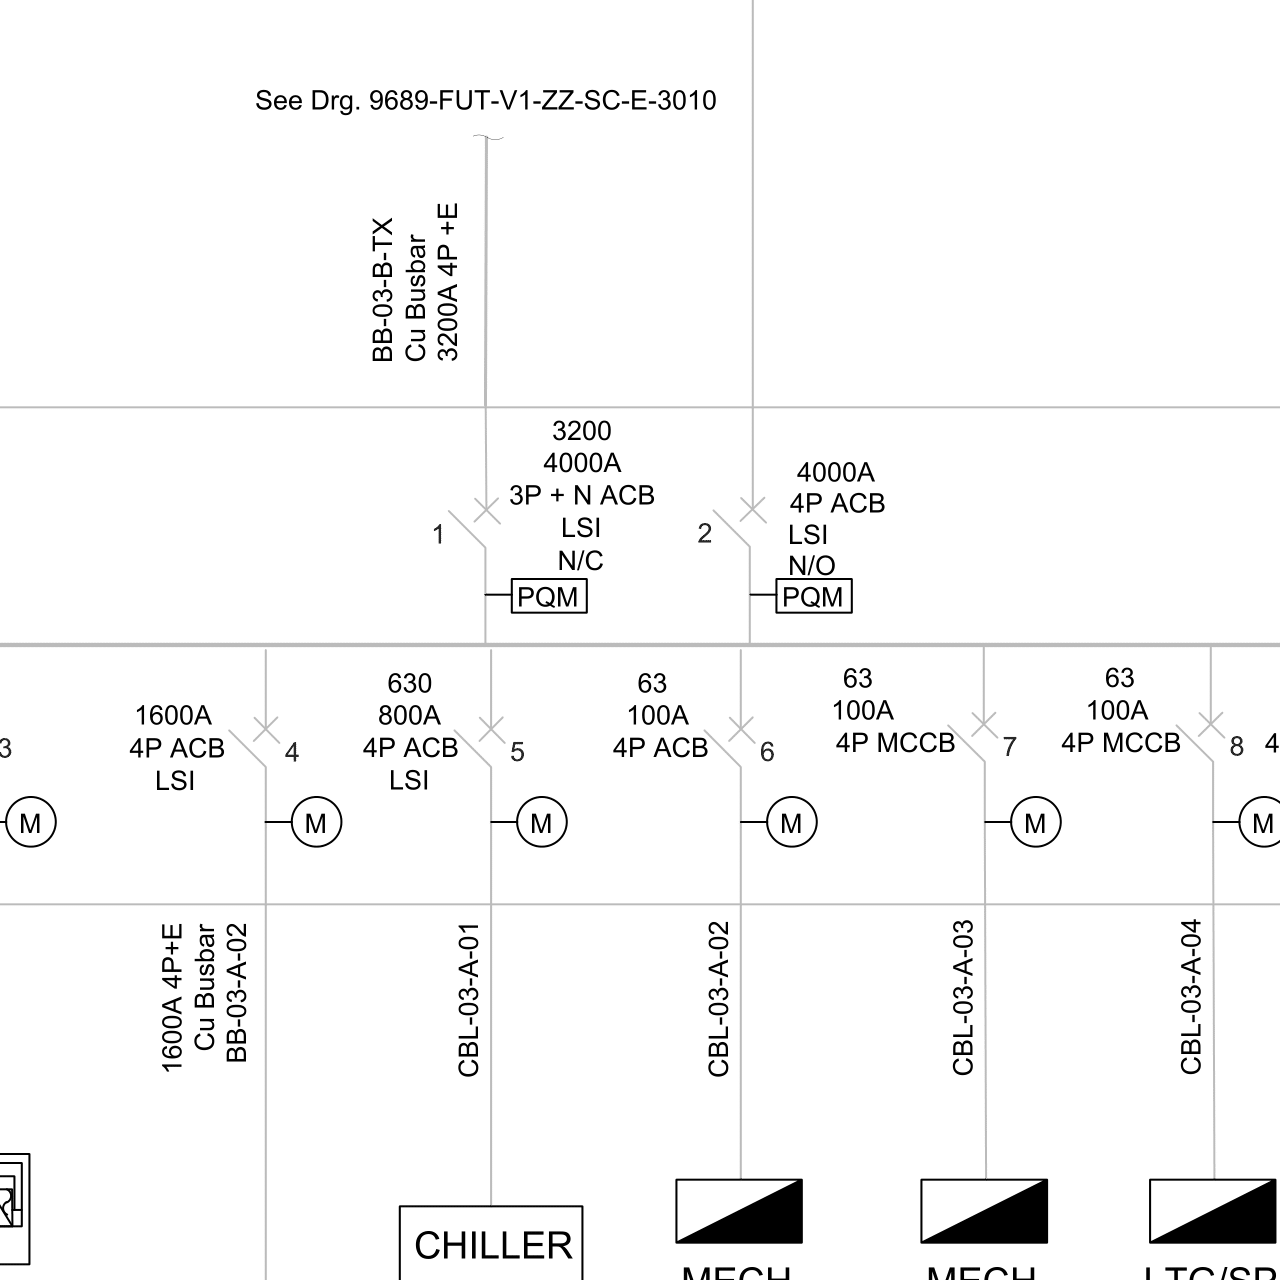Distribution Board: (910, 1171, 1060, 1253), (668, 1171, 811, 1251), (1139, 1171, 1280, 1251)
